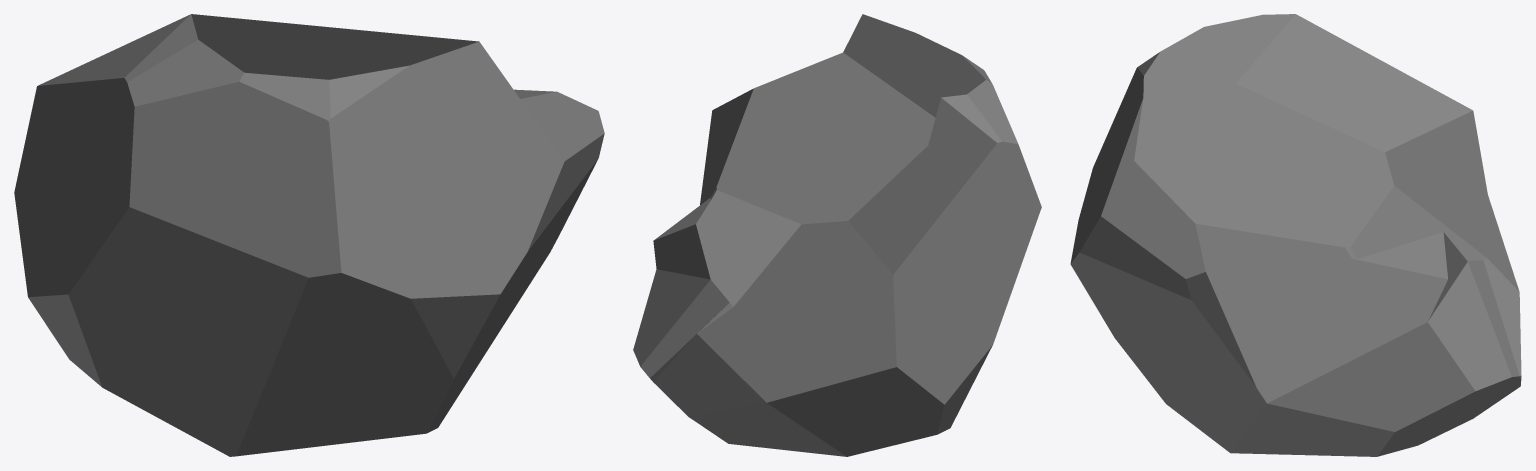
File: MiniAsteroid.fbx
The picture shows the model from 3 angles, left to right: view 1: azimuth 30°, elevation 25°; view 2: azimuth 150°, elevation 25°; view 3: azimuth 270°, elevation 25°; orthographic projection. The views are drawn at different scales.
Parts seen in each view (by area): view 1: Asteroid; view 2: Asteroid; view 3: Asteroid.
Boxes of the visible parts, x1=… form: Asteroid: x1=14, y1=14, x2=604, y2=456; Asteroid: x1=633, y1=14, x2=1041, y2=456; Asteroid: x1=1070, y1=14, x2=1521, y2=456.
Size of the model in its own units: 2254 by 2227 by 2394.
Materials: 1 (1 with a texture image).
